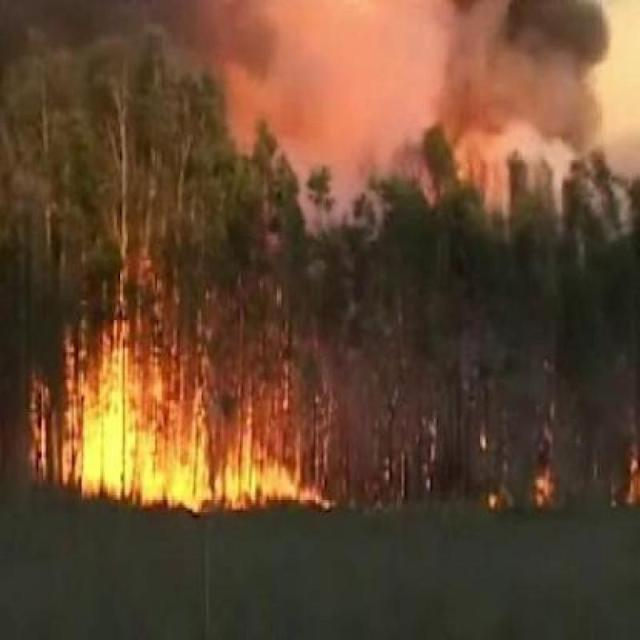Fire: (40, 264, 345, 536), (456, 442, 550, 512), (612, 447, 640, 525)
